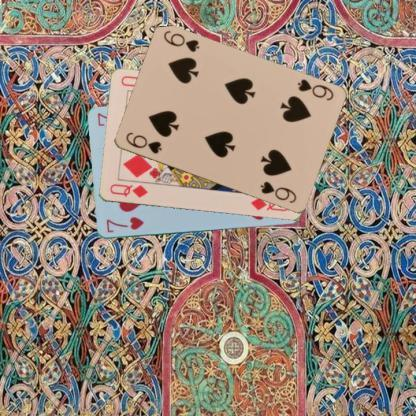6s: (122, 130, 163, 156), (294, 76, 335, 102)
7h: (104, 214, 144, 234)
Qd: (107, 182, 149, 199)
